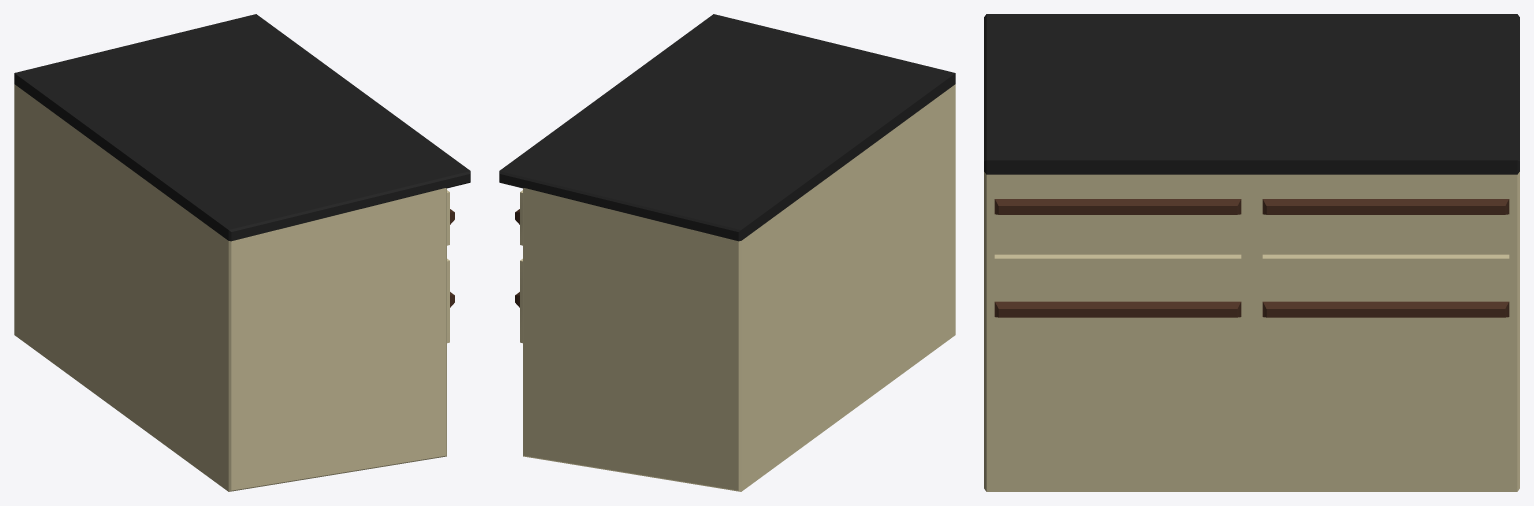
File: Bloc_cuisine_text (1).fbx
3 views of the same model, side by side, from view 1: azimuth 30°, elevation 25°; view 2: azimuth 150°, elevation 25°; view 3: azimuth 270°, elevation 25° (orthographic). The views are drawn at different scales.
Visible parts, largest first — view 1: meuble_cuisine; view 2: meuble_cuisine; view 3: meuble_cuisine.
Part boxes in pixels (left/top/right/bottom): meuble_cuisine: left=14, top=14, right=470, bottom=491; meuble_cuisine: left=499, top=14, right=955, bottom=491; meuble_cuisine: left=984, top=14, right=1519, bottom=491.
Size of the model in its own units: 64.38 by 71.09 by 99.72.
1 material, 1 textured.
